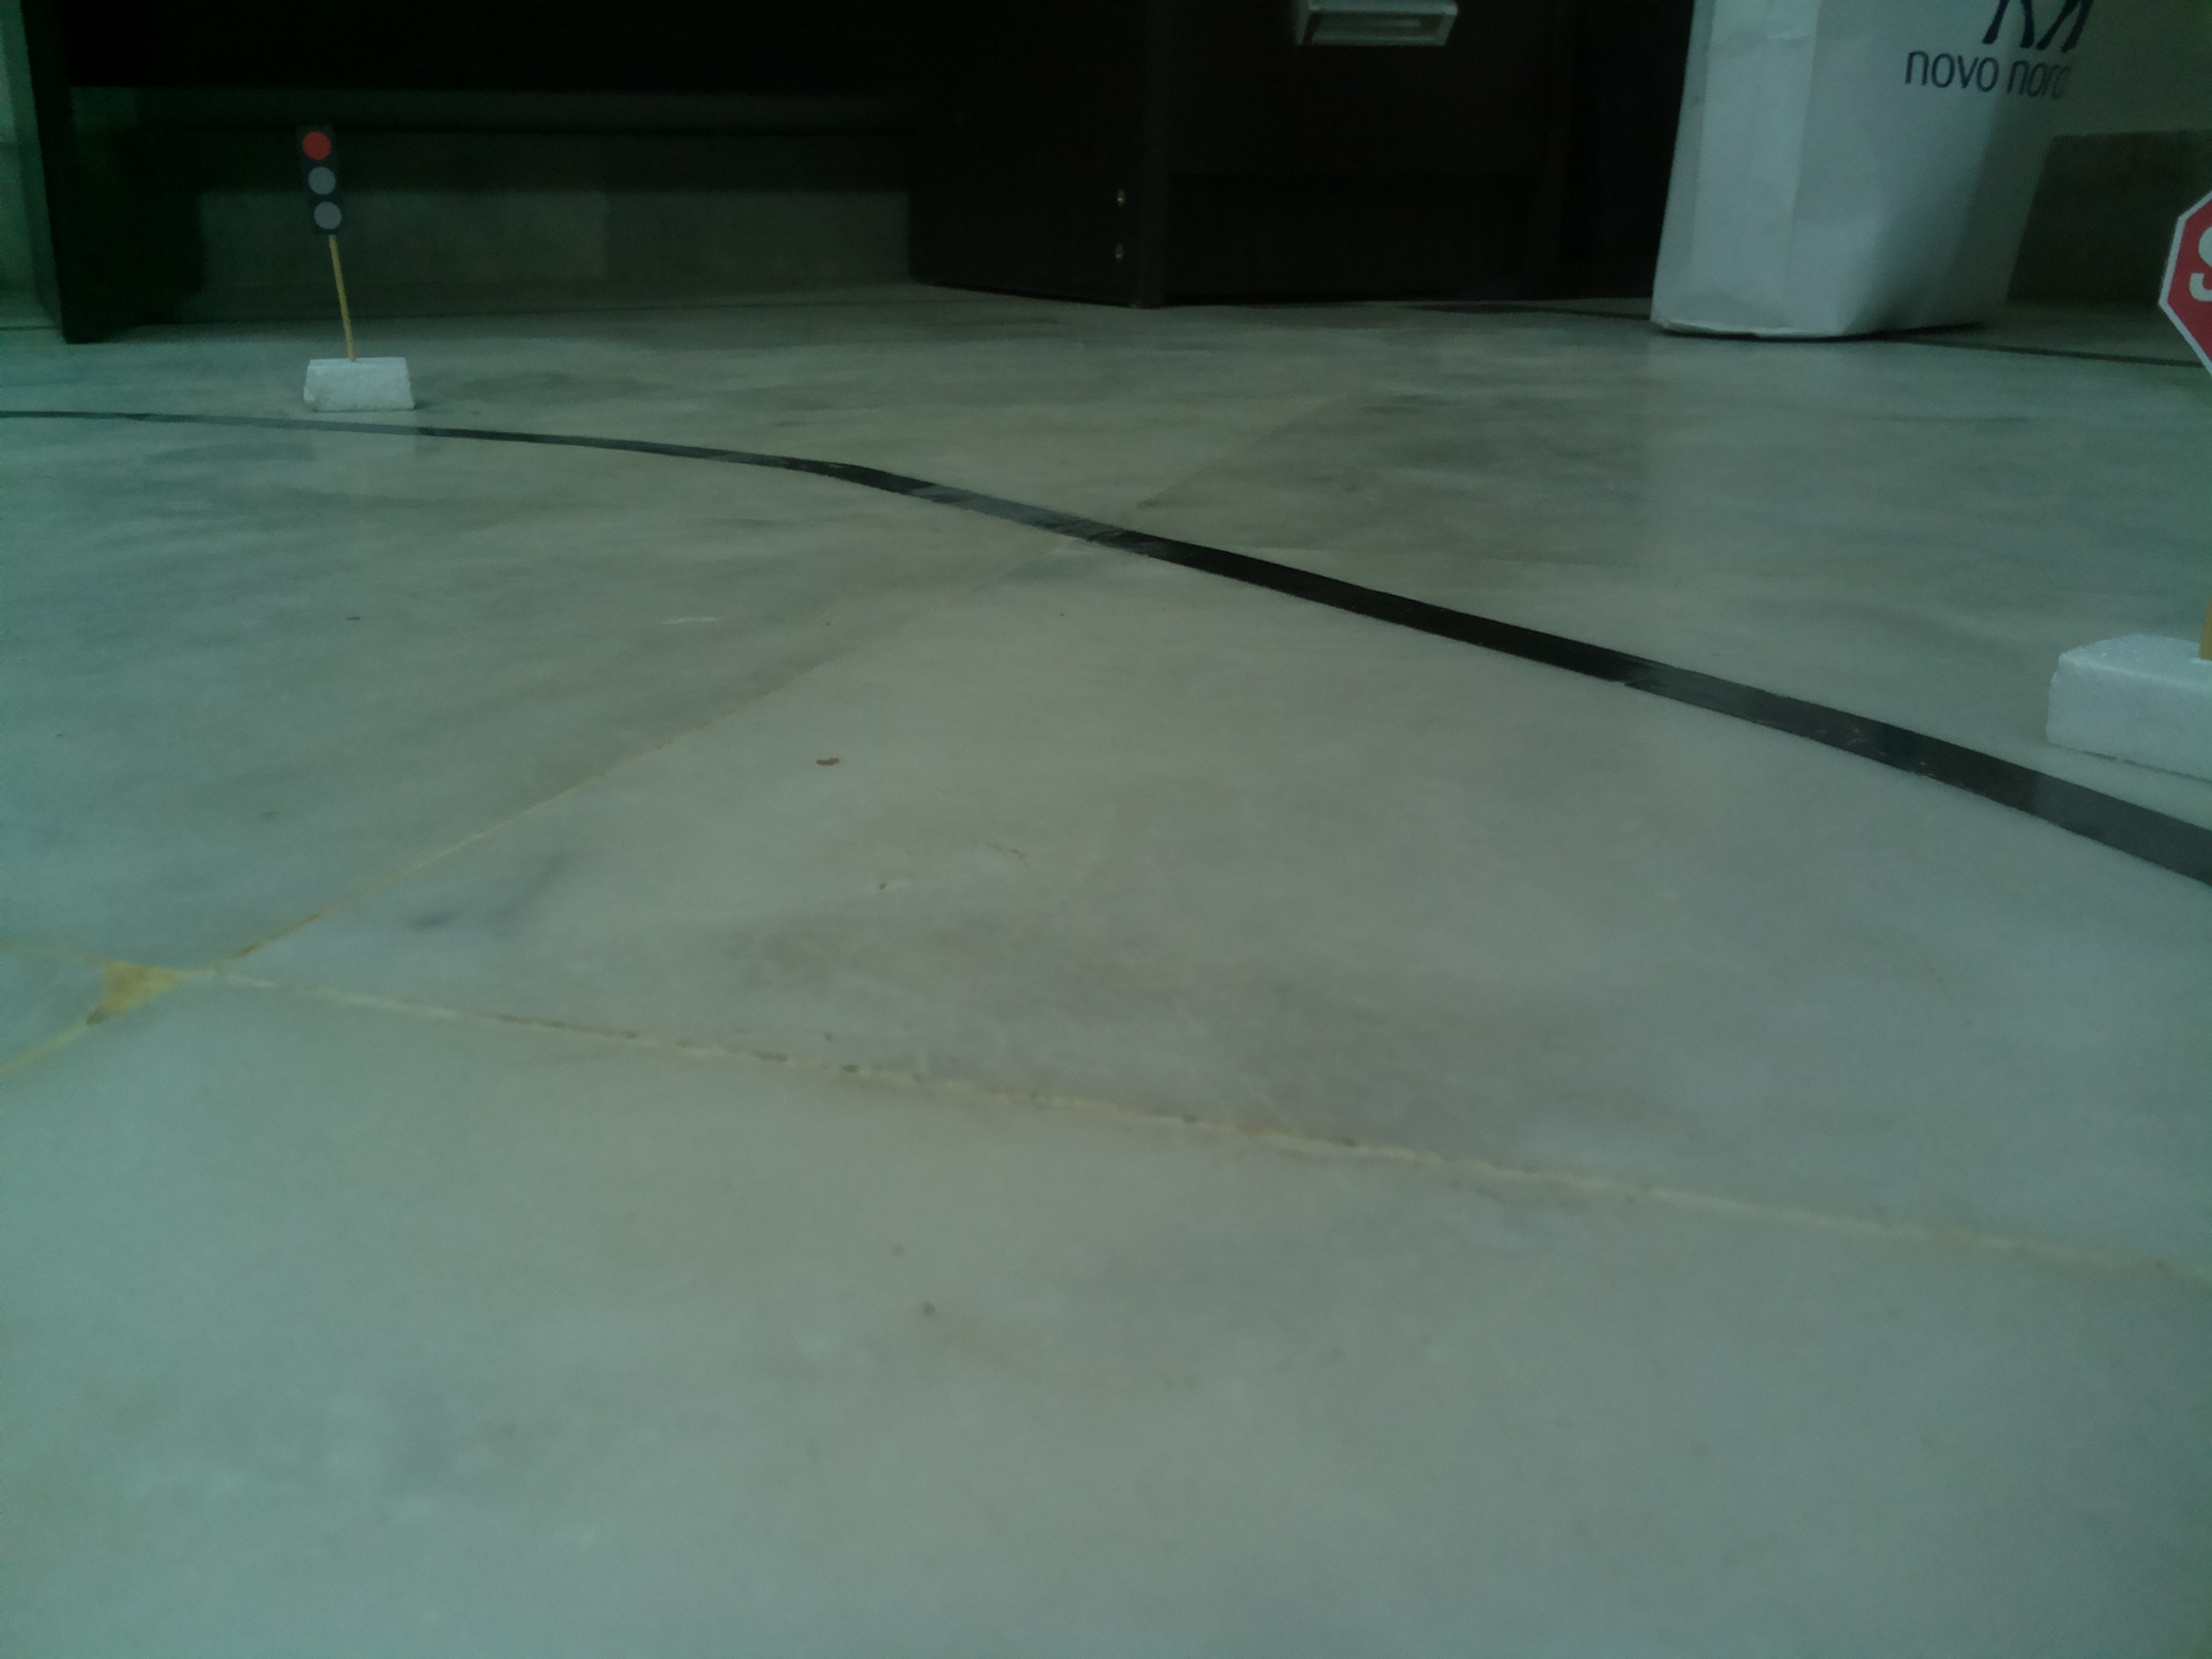Red traffic light: (277, 125, 374, 251)
Stop sign: (2144, 176, 2212, 382)
